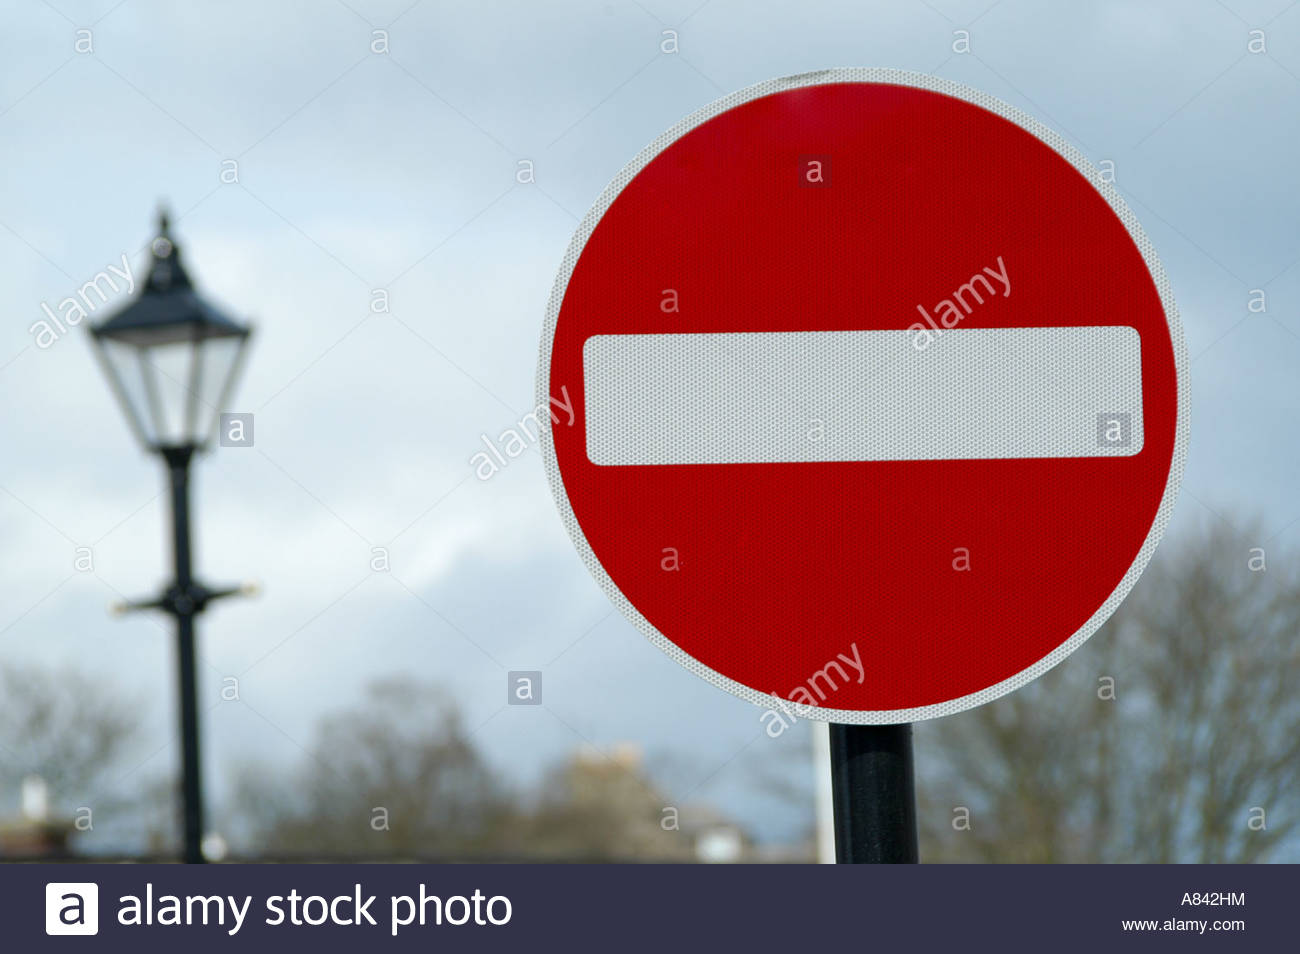No_entry: (534, 66, 1195, 723)
